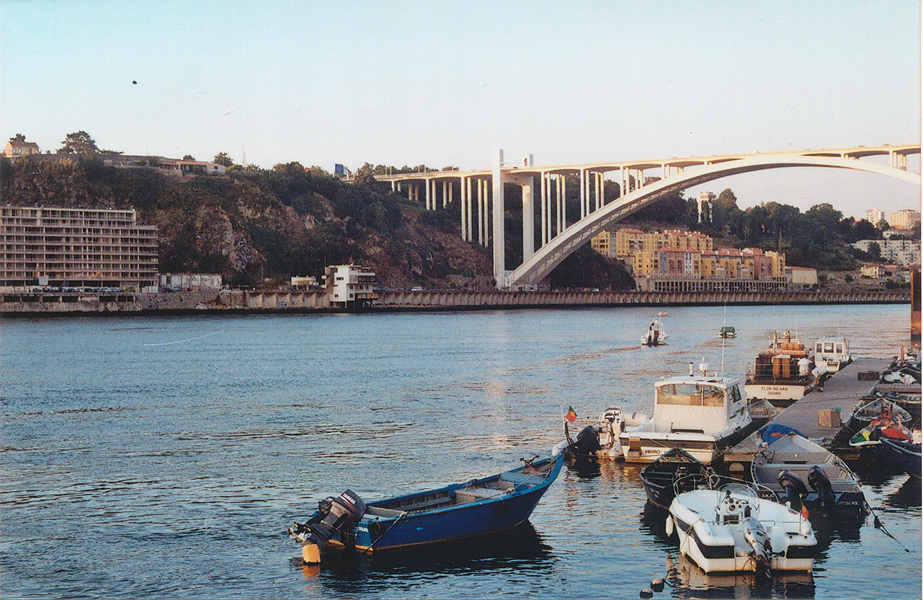arrabida: (373, 143, 922, 293)
